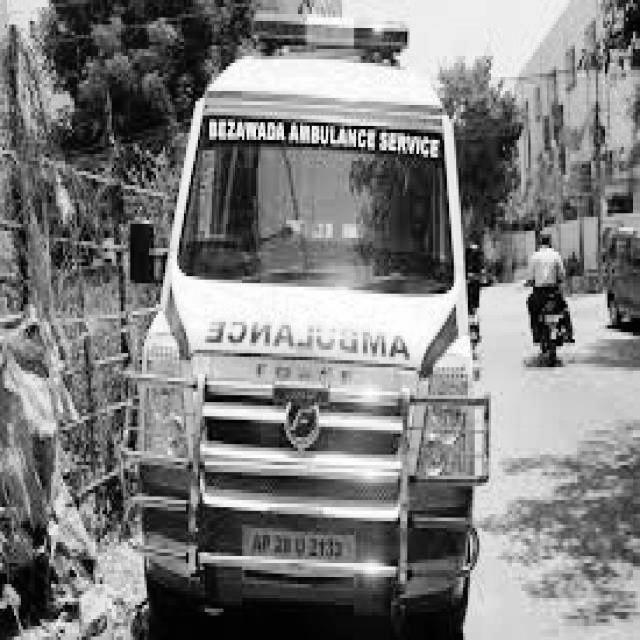LCV: (128, 14, 473, 612)
